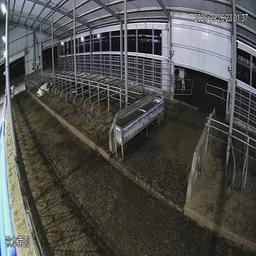cow: (169, 65, 187, 91), (35, 79, 54, 98), (67, 79, 87, 95), (4, 83, 15, 103)
